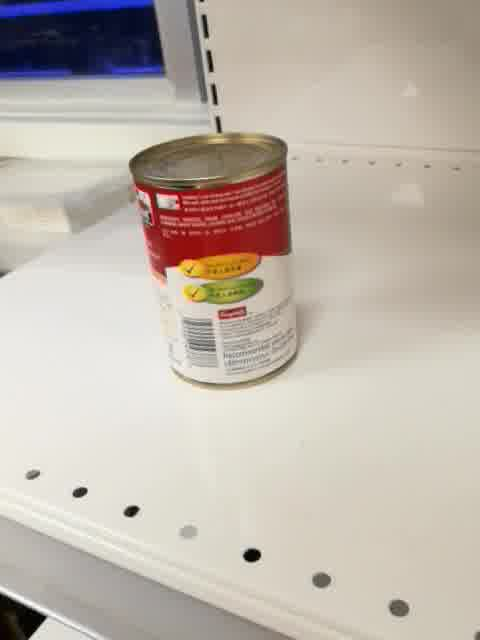tomatosoup: (126, 129, 302, 391)
